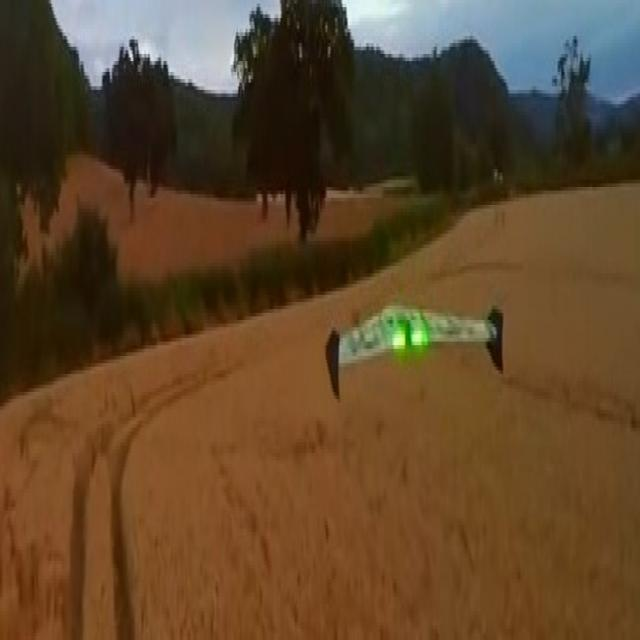iha: (319, 322, 516, 368)
